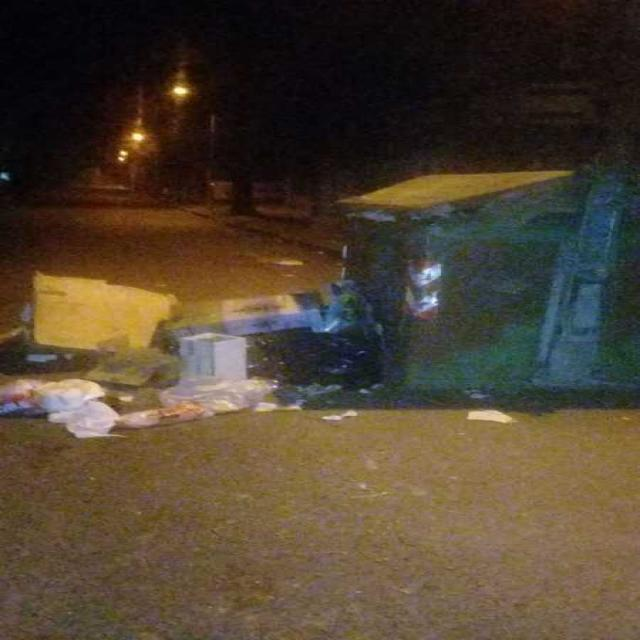high trash: (0, 272, 384, 438)
less trash: (466, 410, 512, 423)
